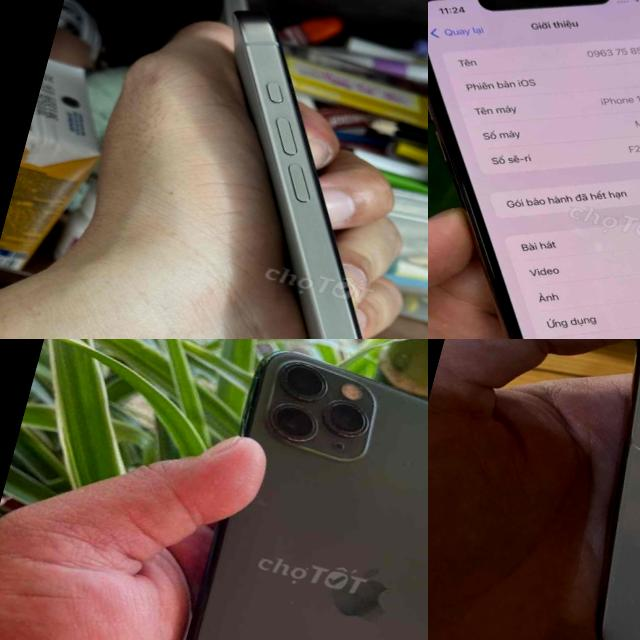gen_11: (428, 0, 640, 339), (187, 353, 428, 640)
gen_15: (105, 7, 428, 339)
gen_x_xs: (530, 339, 640, 640)
physical_damage: (575, 426, 640, 640)
scratch: (230, 346, 284, 401), (391, 439, 428, 476), (348, 381, 389, 413)
